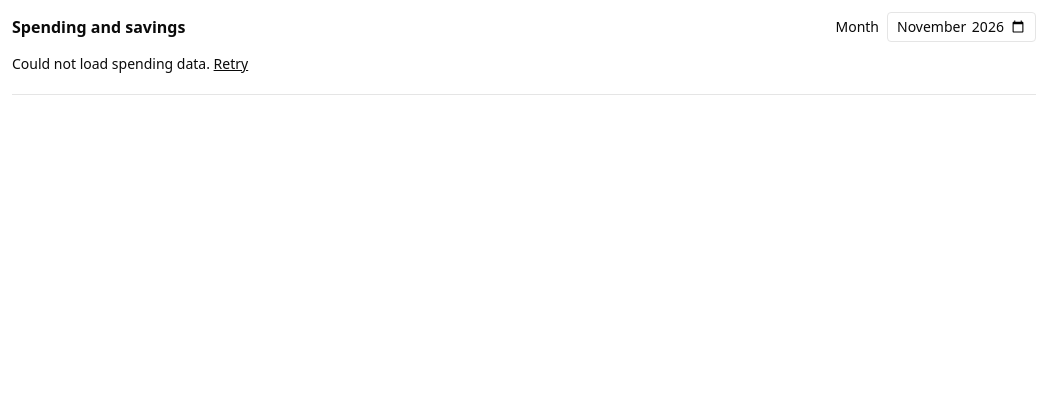
it: shows a failure instead of zero totals and retries
Check: the message shows "Could not load", box [12,54,214,73]
What coordinates should you click on to do the following:
click the button "Retry"
I would click on:
 (231, 64)
Its box is [214,54,248,74].
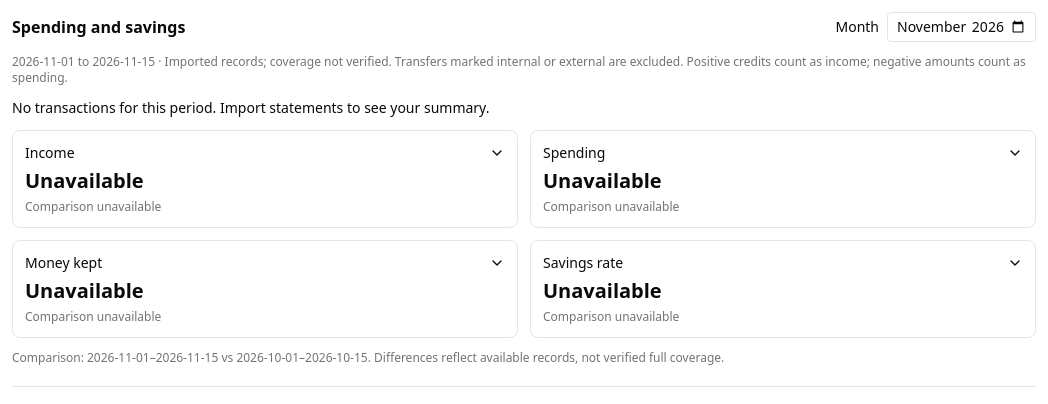
Check: the text "No transactions for this period" is shown, box [12,98,490,117]
